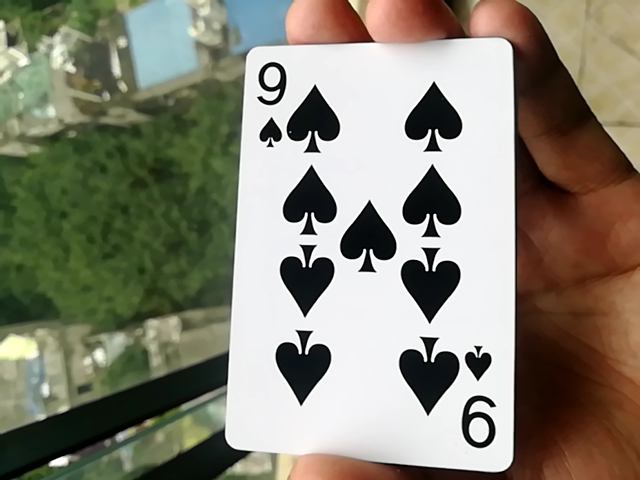ht 9: (223, 21, 505, 477)
